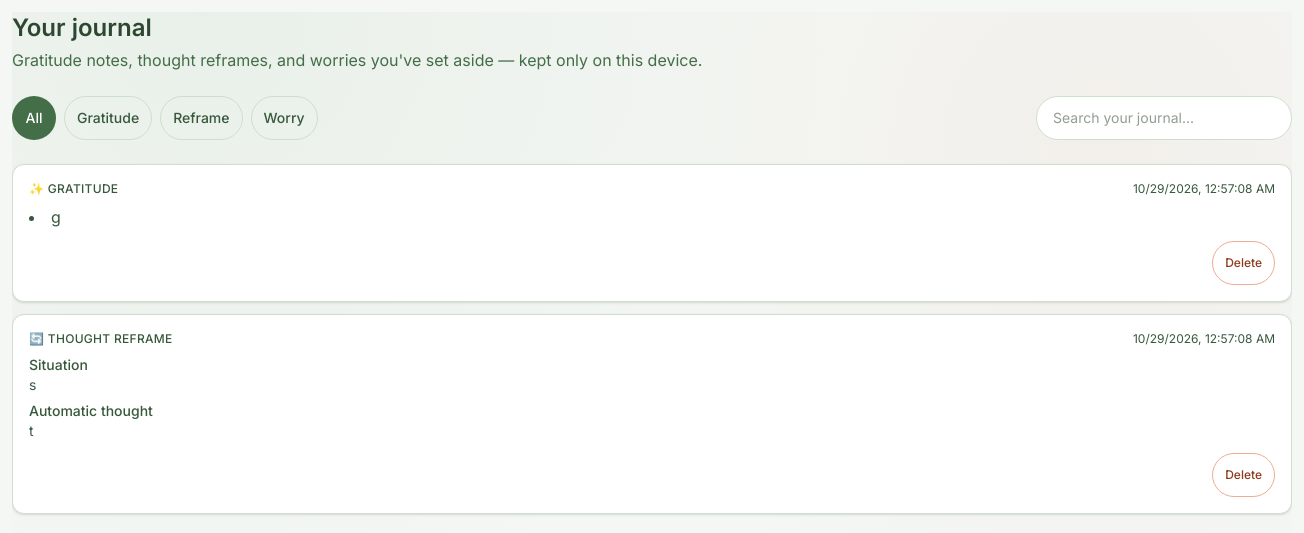
Scenario: Journal page › deleting entries › can delete each kind of entry
What coordinates should you click on to do the following:
click the 1st button "Delete"
I would click on:
 (1244, 263)
Its box is [1212,241,1275,285].
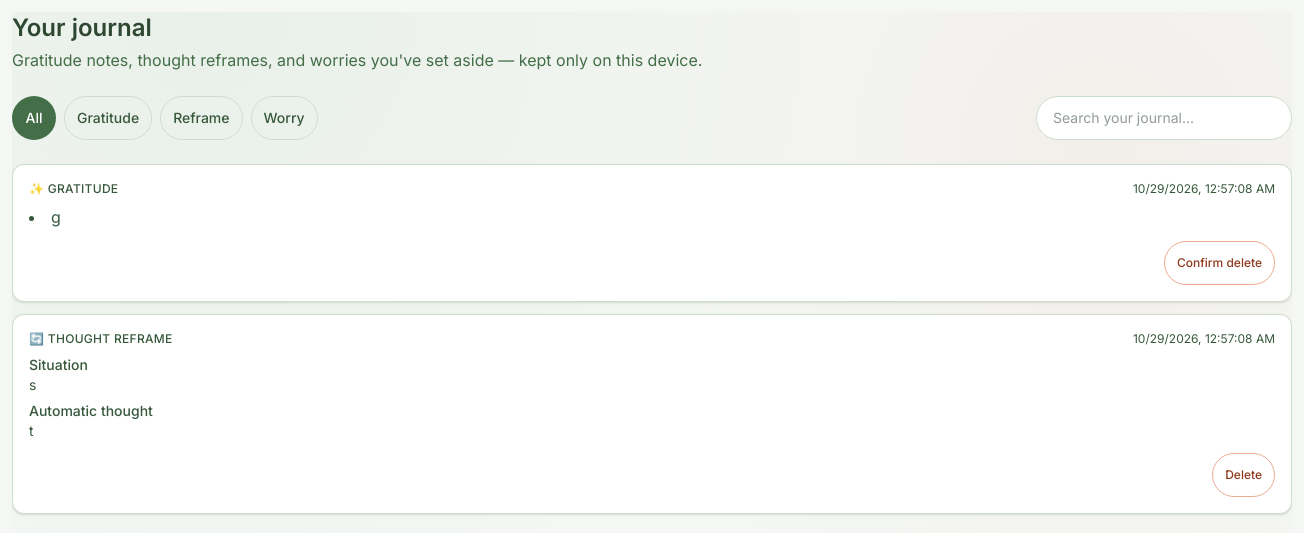
What coordinates should you click on to do the following:
click the button "Confirm delete"
I would click on:
 (1219, 263)
Its box is [1164,241,1275,285].
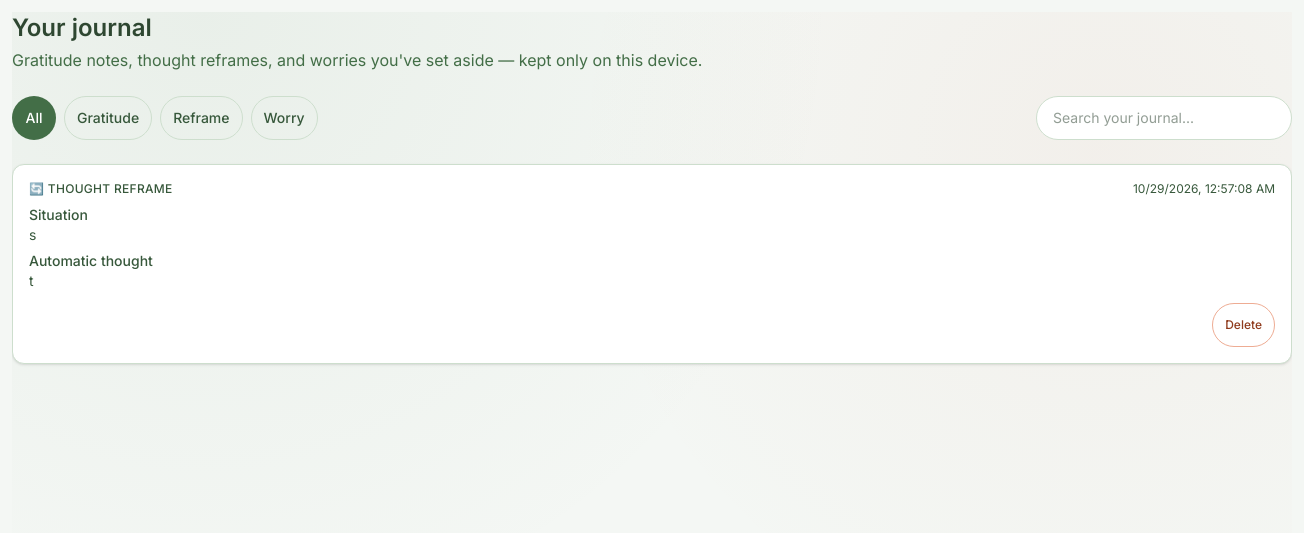
What coordinates should you click on to do the following:
click the button "Delete"
I would click on:
 (1244, 325)
Its box is [1212,303,1275,347].
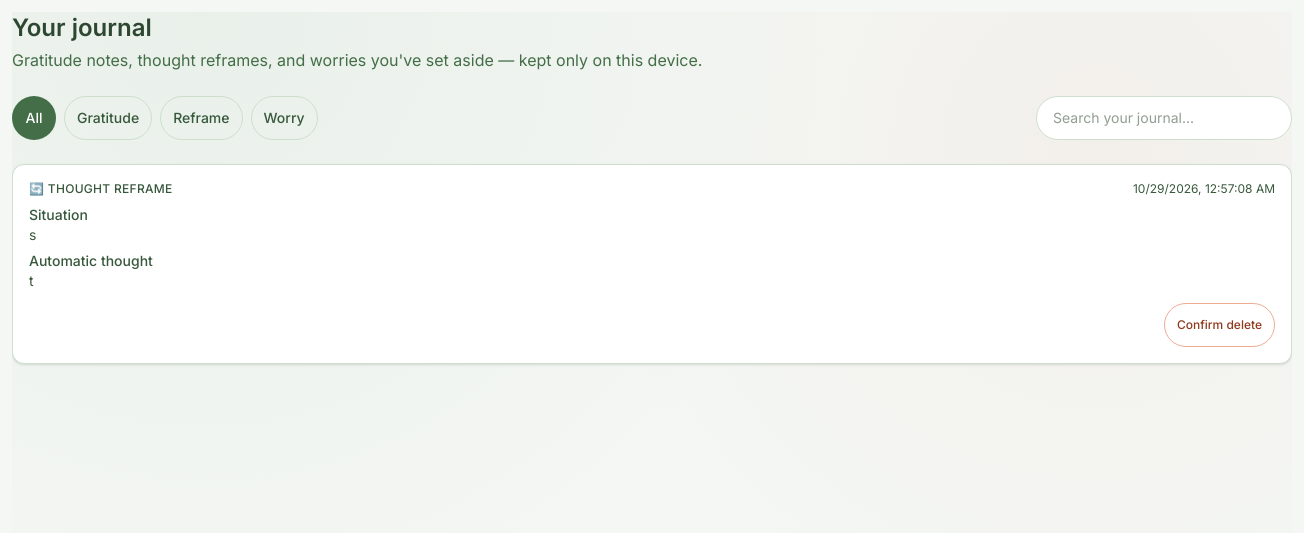
What coordinates should you click on to do the following:
click the button "Confirm delete"
I would click on:
 (1219, 325)
Its box is [1164,303,1275,347].
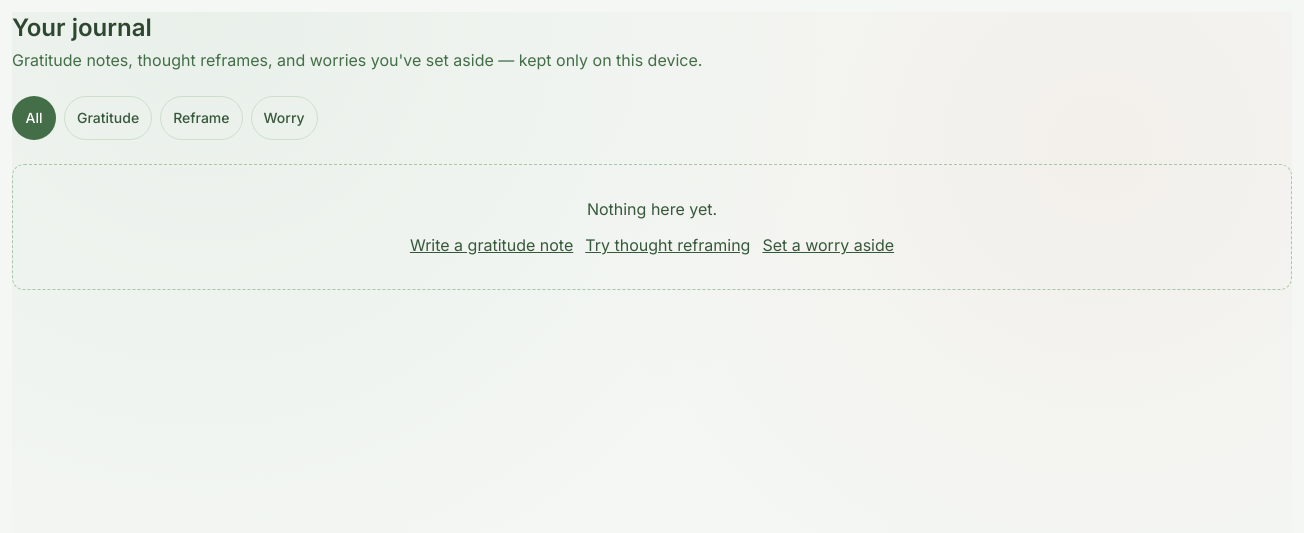
expect the text "Nothing here yet." is shown: met, box [587,199,717,219]
